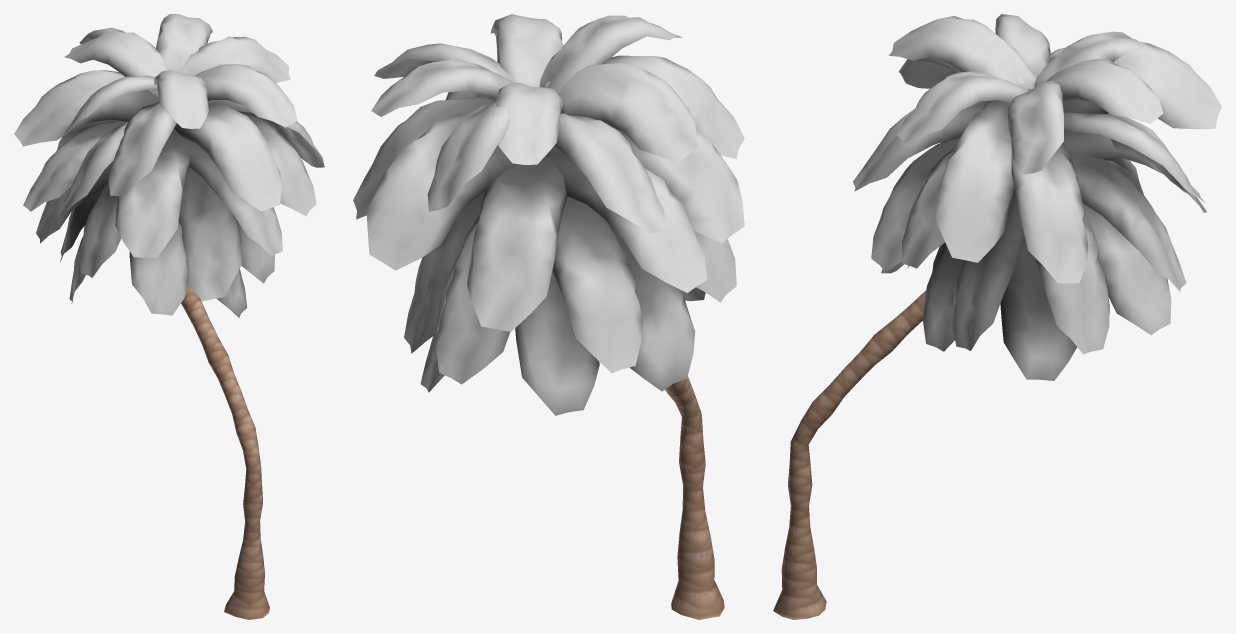
File: SW3_PalmTree.fbx
3 renders of one model, left to right at view 1: azimuth 30°, elevation 25°; view 2: azimuth 150°, elevation 25°; view 3: azimuth 270°, elevation 25°, orthographic. The views are drawn at different scales.
Parts seen in each view (by area): view 1: PalmTree_LOD0; view 2: PalmTree_LOD0; view 3: PalmTree_LOD0.
Boxes of the visible parts, <box> form: PalmTree_LOD0: <box>14,14,324,619</box>; PalmTree_LOD0: <box>353,14,744,619</box>; PalmTree_LOD0: <box>773,14,1221,619</box>.
Size of the model in its own units: 460 by 818 by 570.
2 materials, 1 textured.
